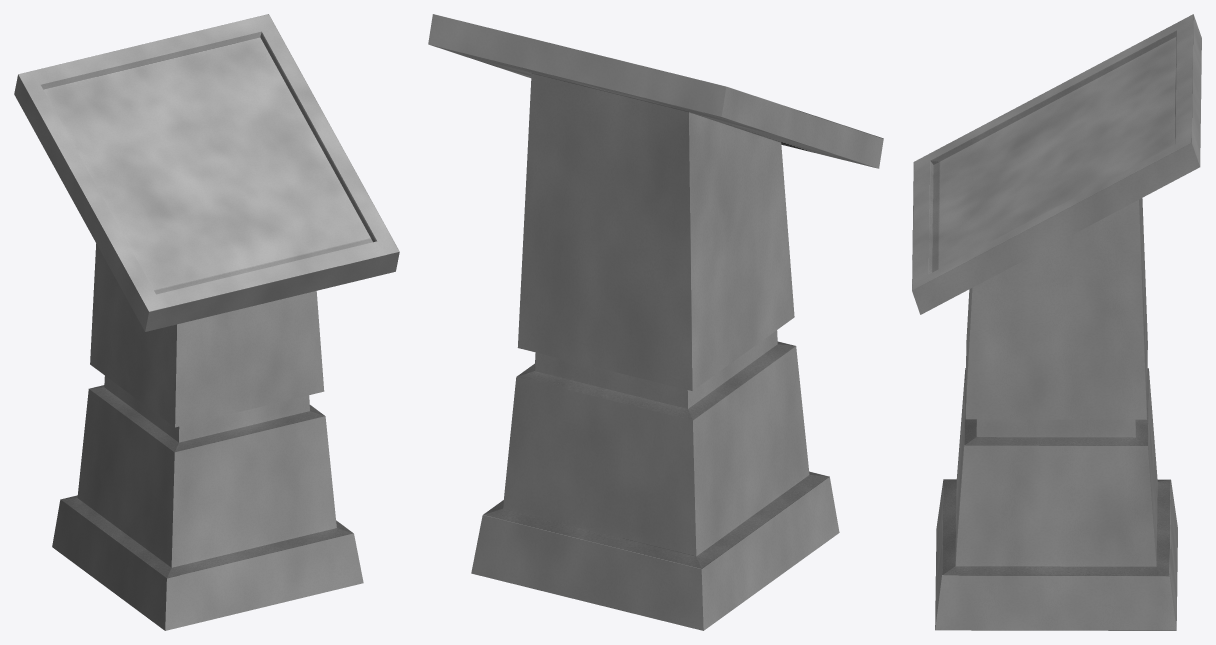
Rendered from Placa_Pedra.gltf.
3 renders of one model, left to right at view 1: azimuth 30°, elevation 25°; view 2: azimuth 150°, elevation 25°; view 3: azimuth 270°, elevation 25°, orthographic. The views are drawn at different scales.
Visible parts, largest first — view 1: Cubo.002_Cubo.004; view 2: Cubo.002_Cubo.004; view 3: Cubo.002_Cubo.004.
Part boxes in pixels (x1=…): Cubo.002_Cubo.004: x1=14, y1=14, x2=399, y2=630; Cubo.002_Cubo.004: x1=428, y1=14, x2=883, y2=630; Cubo.002_Cubo.004: x1=912, y1=14, x2=1201, y2=630.
Bounding box in the file's own units: 0.1659 × 0.2989 × 0.1568.
1 material, 1 textured.
